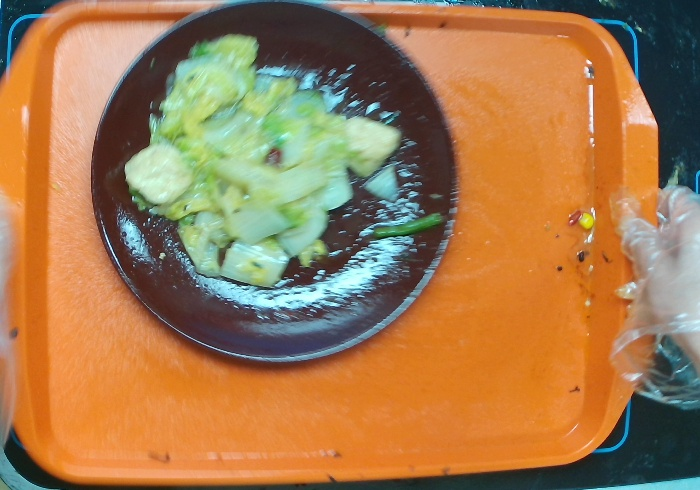HZYJPL-Ka_Fei_Yuan_Pan: (87, 1, 460, 366)
